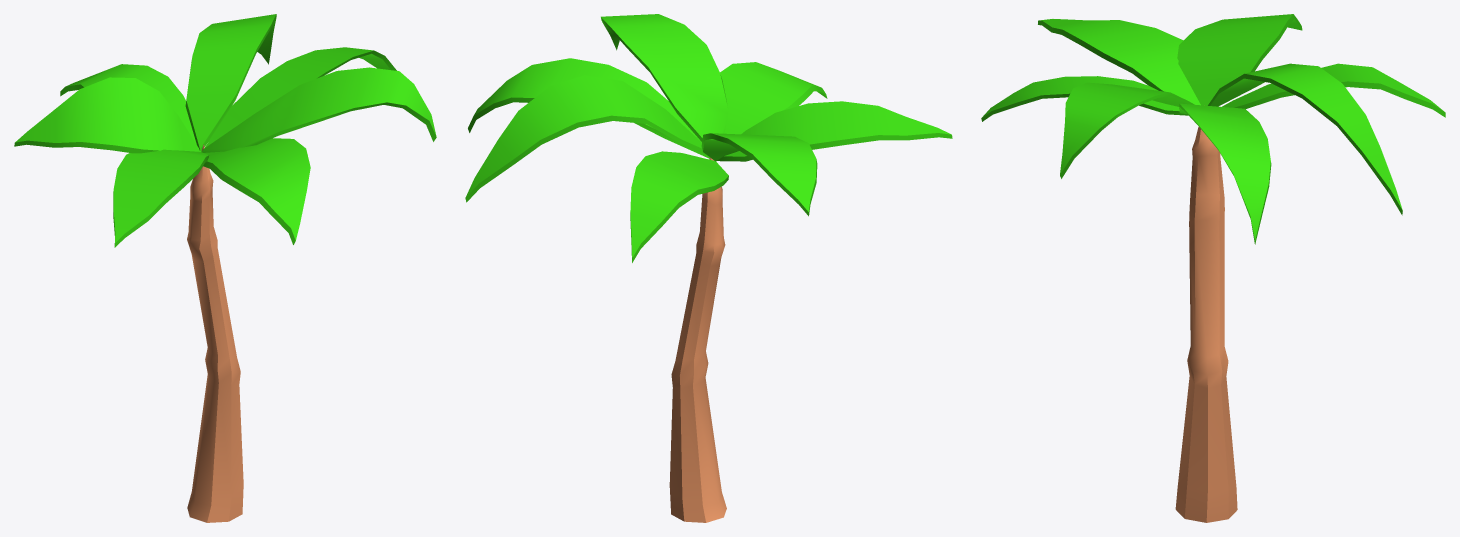
The model's file is Coqueiro 2.fbx.
The picture shows the model from 3 angles, left to right: view 1: azimuth 30°, elevation 25°; view 2: azimuth 150°, elevation 25°; view 3: azimuth 270°, elevation 25°; orthographic projection. The views are drawn at different scales.
Parts seen in each view (by area): view 1: Coqueiro 2; view 2: Coqueiro 2; view 3: Coqueiro 2.
Part boxes in pixels (box(x1,y1,x2,y2)): Coqueiro 2: box(14, 14, 436, 522); Coqueiro 2: box(465, 14, 952, 522); Coqueiro 2: box(981, 14, 1445, 522).
Size of the model in its own units: 691 by 749 by 662.
